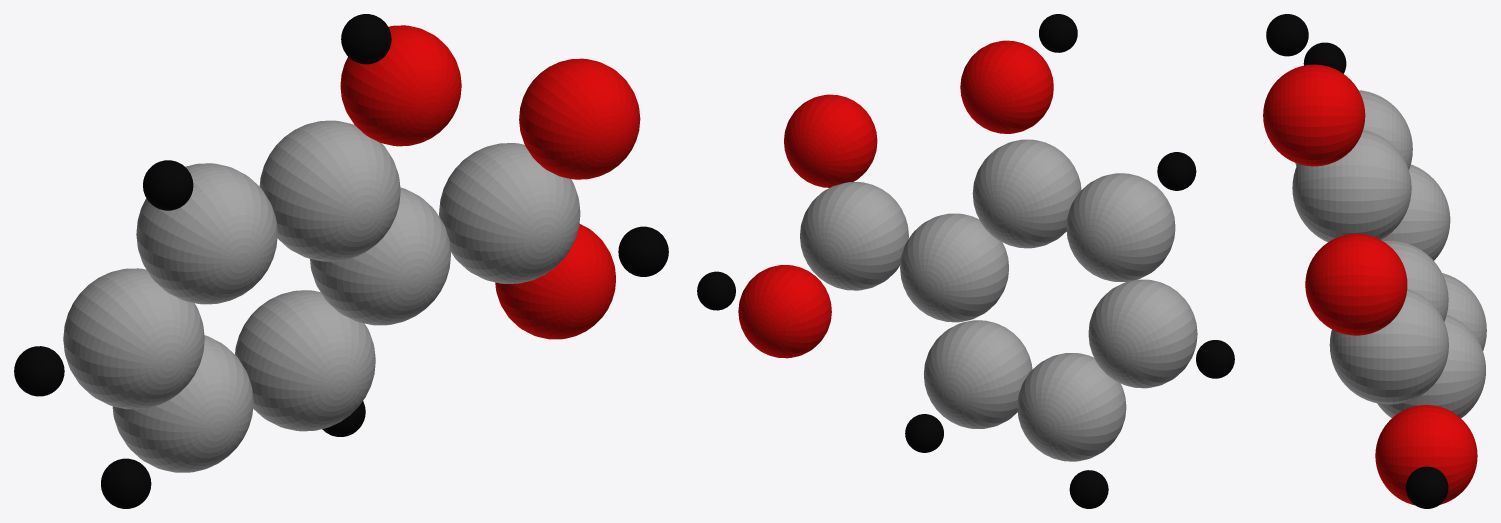
File: Salicylic Acid.glb
The picture shows the model from 3 angles, left to right: view 1: azimuth 30°, elevation 25°; view 2: azimuth 150°, elevation 25°; view 3: azimuth 270°, elevation 25°; orthographic projection. The views are drawn at different scales.
Visible parts, largest first — view 1: world; view 2: world; view 3: world.
Boxes of the visible parts, box(x1,y1,x2,y2) form: world: box(14, 14, 668, 508); world: box(697, 14, 1234, 508); world: box(1263, 14, 1486, 508).
Size of the model in its own units: 7.65 by 5.78 by 2.63.
